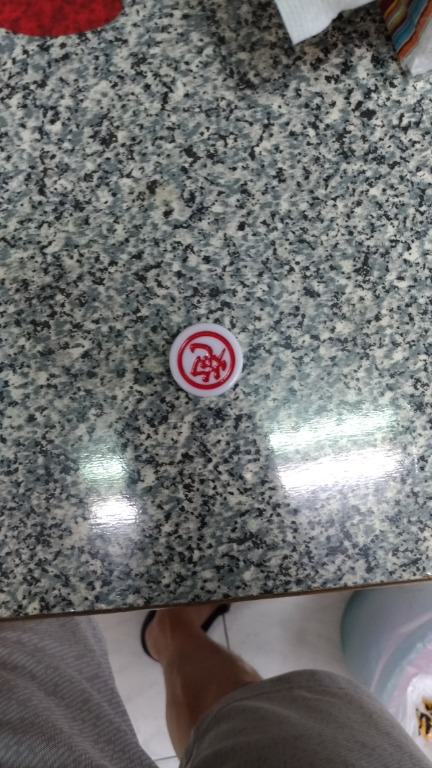r-cannon: (161, 317, 261, 403)
